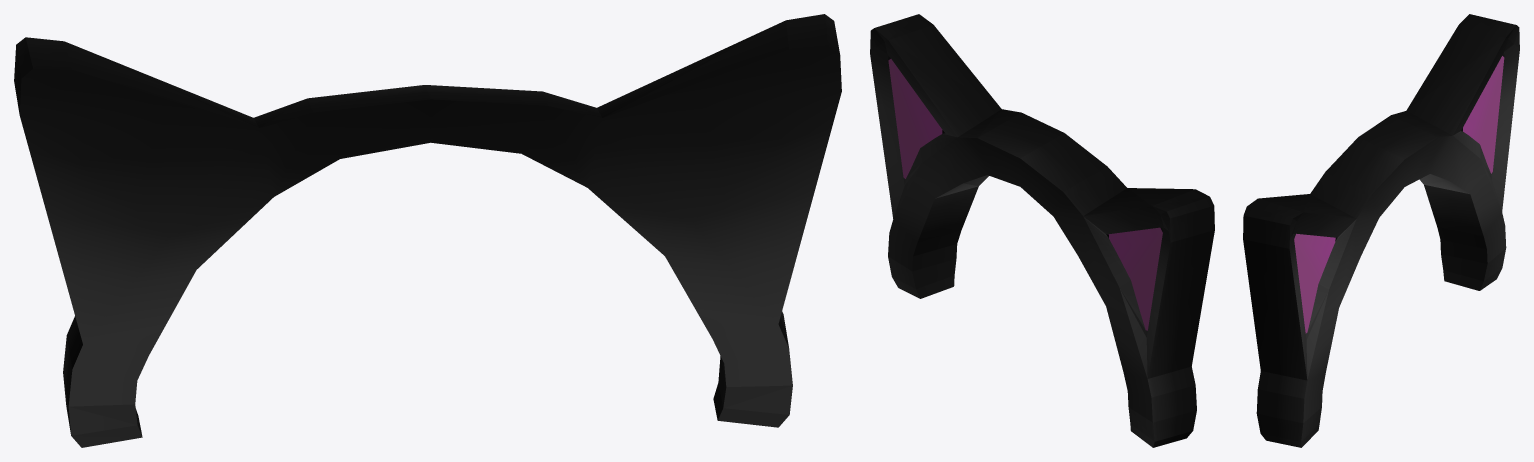
The model's file is CAT EARS.fbx.
3 renders of one model, left to right at view 1: azimuth 30°, elevation 25°; view 2: azimuth 150°, elevation 25°; view 3: azimuth 270°, elevation 25°, orthographic. The views are drawn at different scales.
Parts seen in each view (by area): view 1: CAT_EARS; view 2: CAT_EARS; view 3: CAT_EARS.
Boxes of the visible parts, x1,y1,x2,y2 form: CAT_EARS: (14,14,841,447); CAT_EARS: (870,14,1214,447); CAT_EARS: (1243,14,1519,447).
Bounding box in the file's own units: 26.84 × 14.68 × 15.05.
